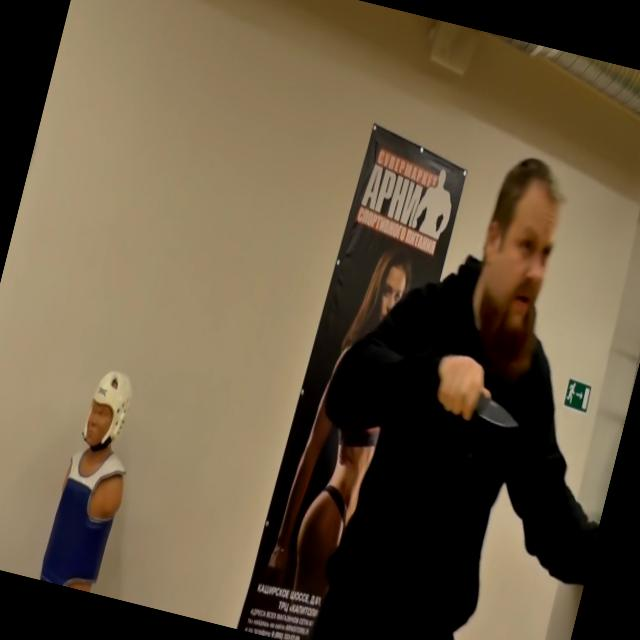knife: (428, 342, 536, 442)
